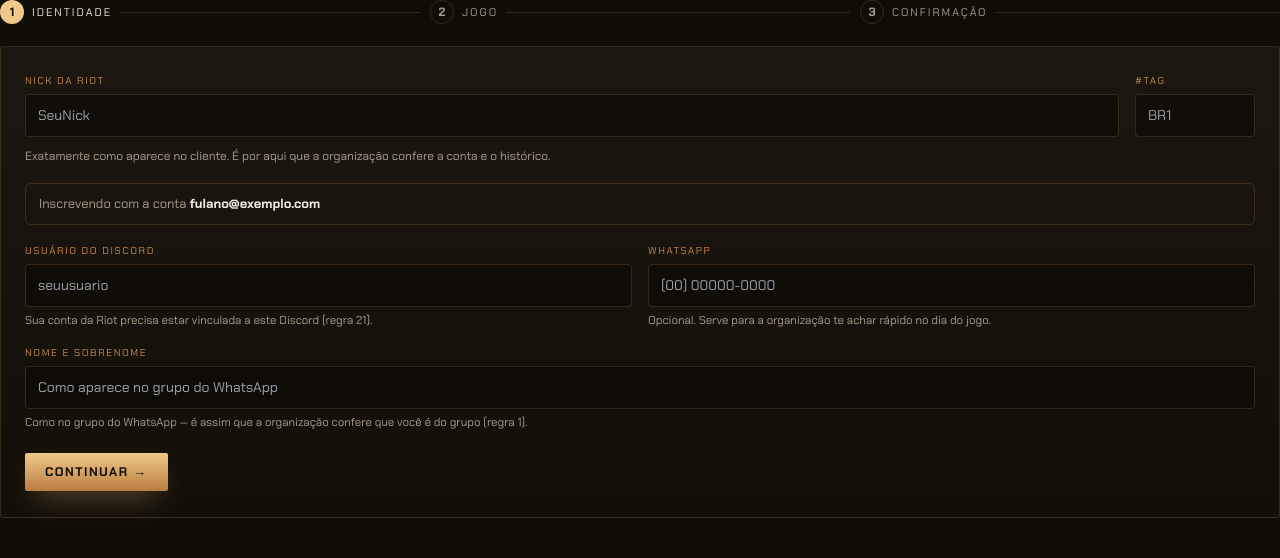
Scenario: acessibilidade (INS-14) › CONTINUAR com o passo 1 vazio: os avisos são role=alert e os campos ficam aria-invalid, ligados ao aviso
What coordinates should you click on to do the following:
click the button "CONTINUAR →"
I would click on:
 (96, 472)
Its box is x1=25 y1=453 x2=168 y2=491.
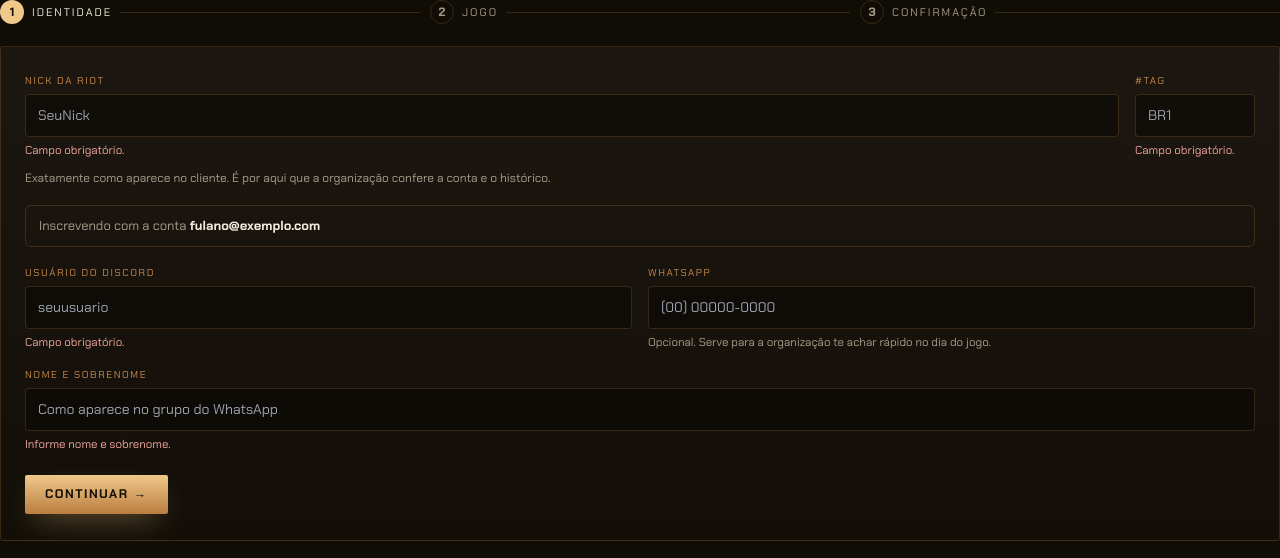
Result: the message "Campo obrigatório." below "NICK DA RIOT" is shown at x1=25 y1=143 x2=124 y2=158
